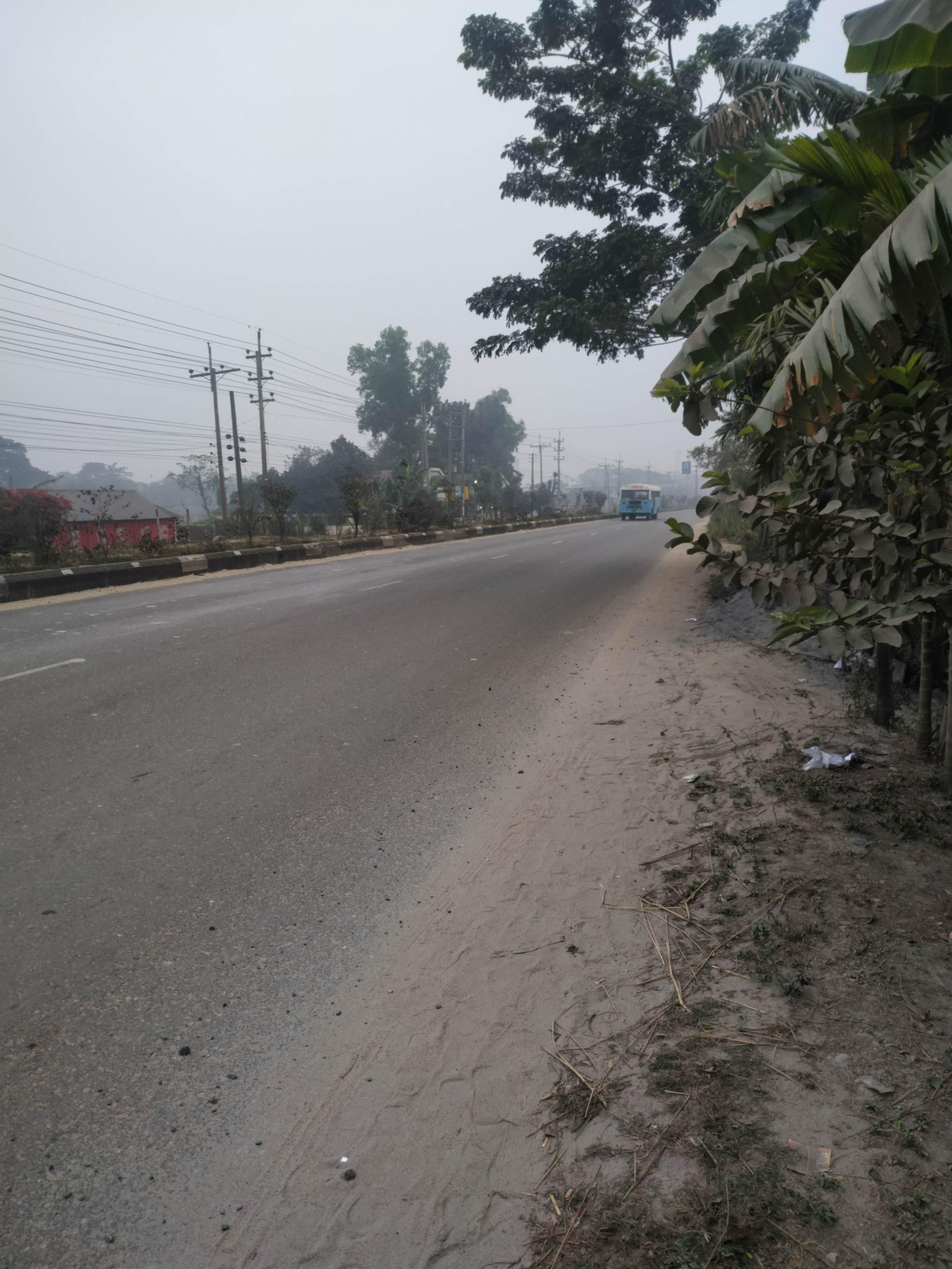Bus: (608, 477, 679, 525)
